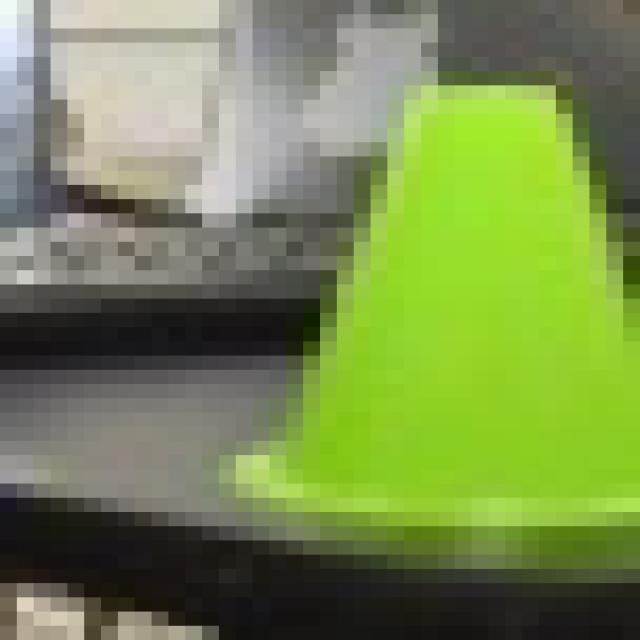cono: (202, 71, 623, 541)
